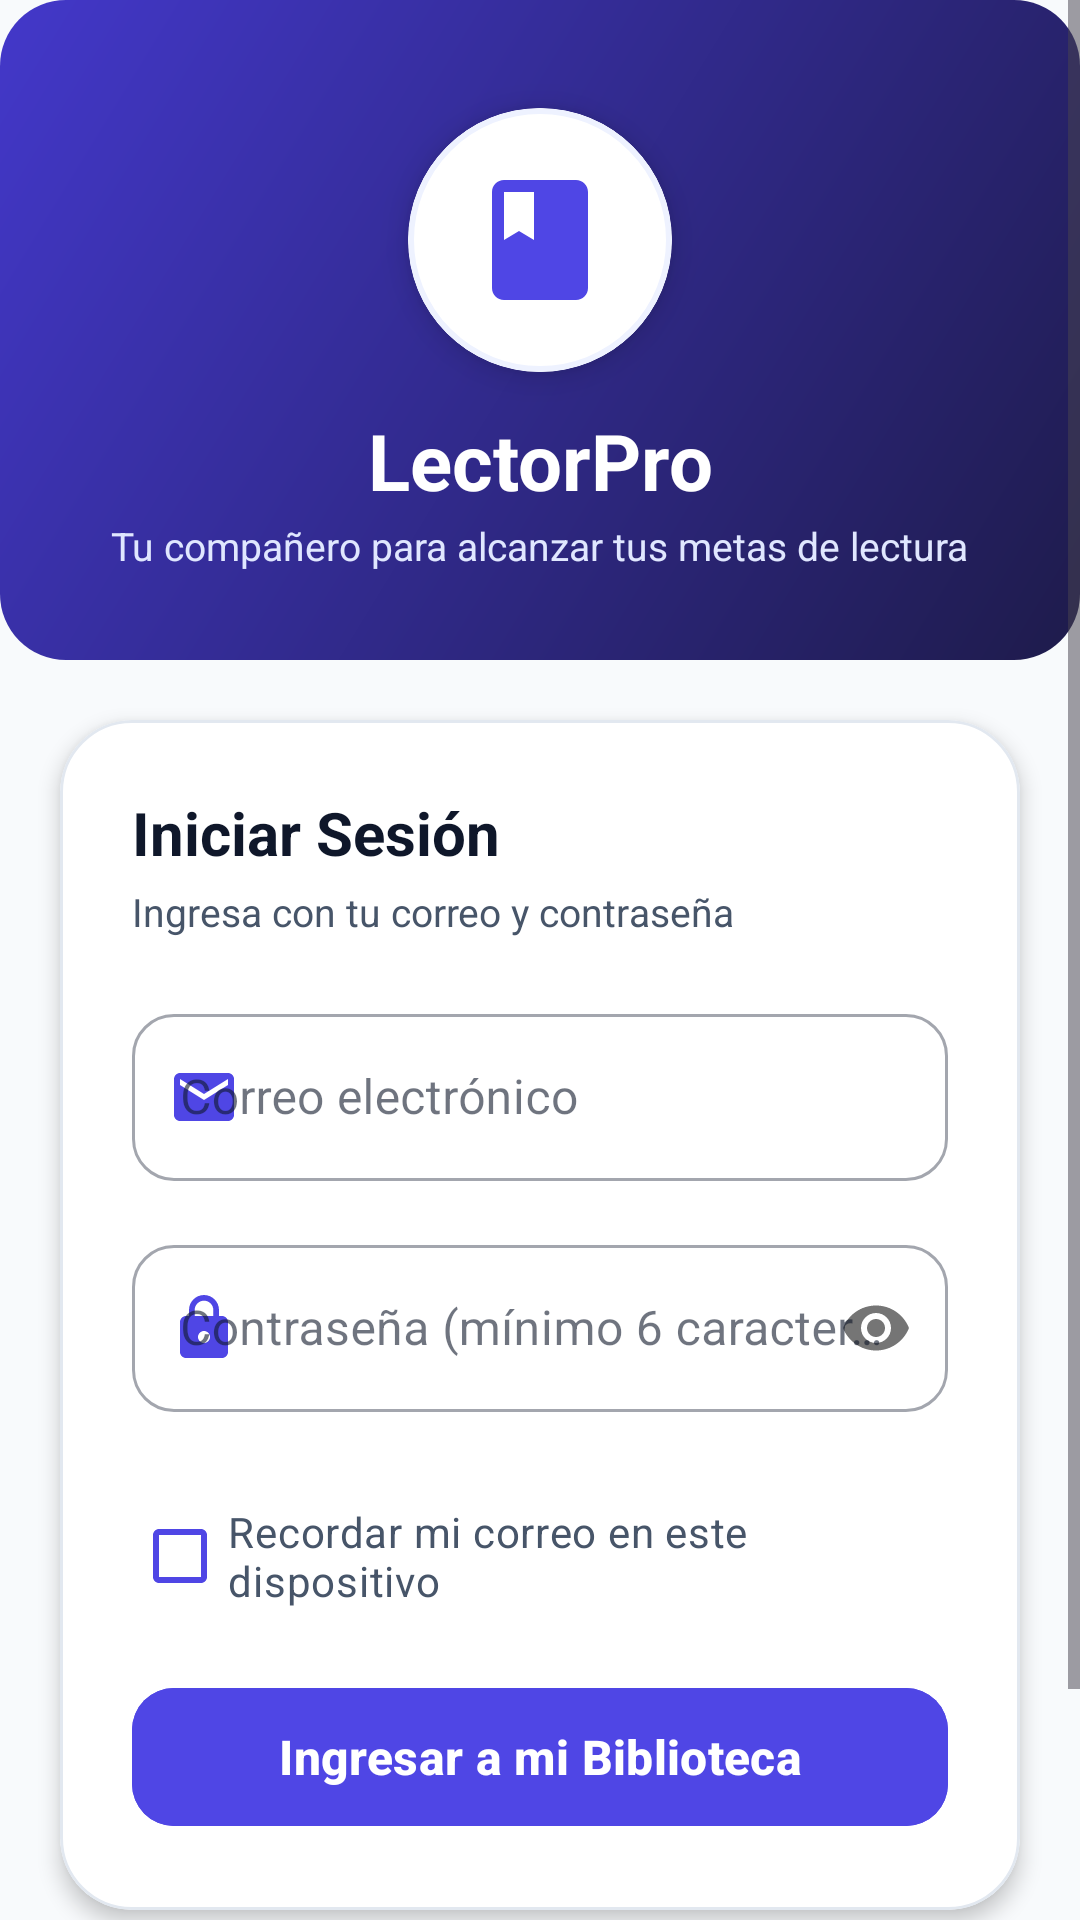

Locate icon controls on the screen. Image size 1080px×1920px, boxes as (x1, y1, x2, y2).
book: (492, 180, 588, 300)
